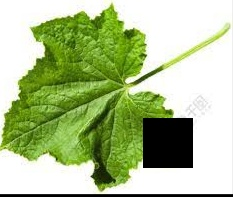cucumber_plant: (2, 12, 230, 187)
